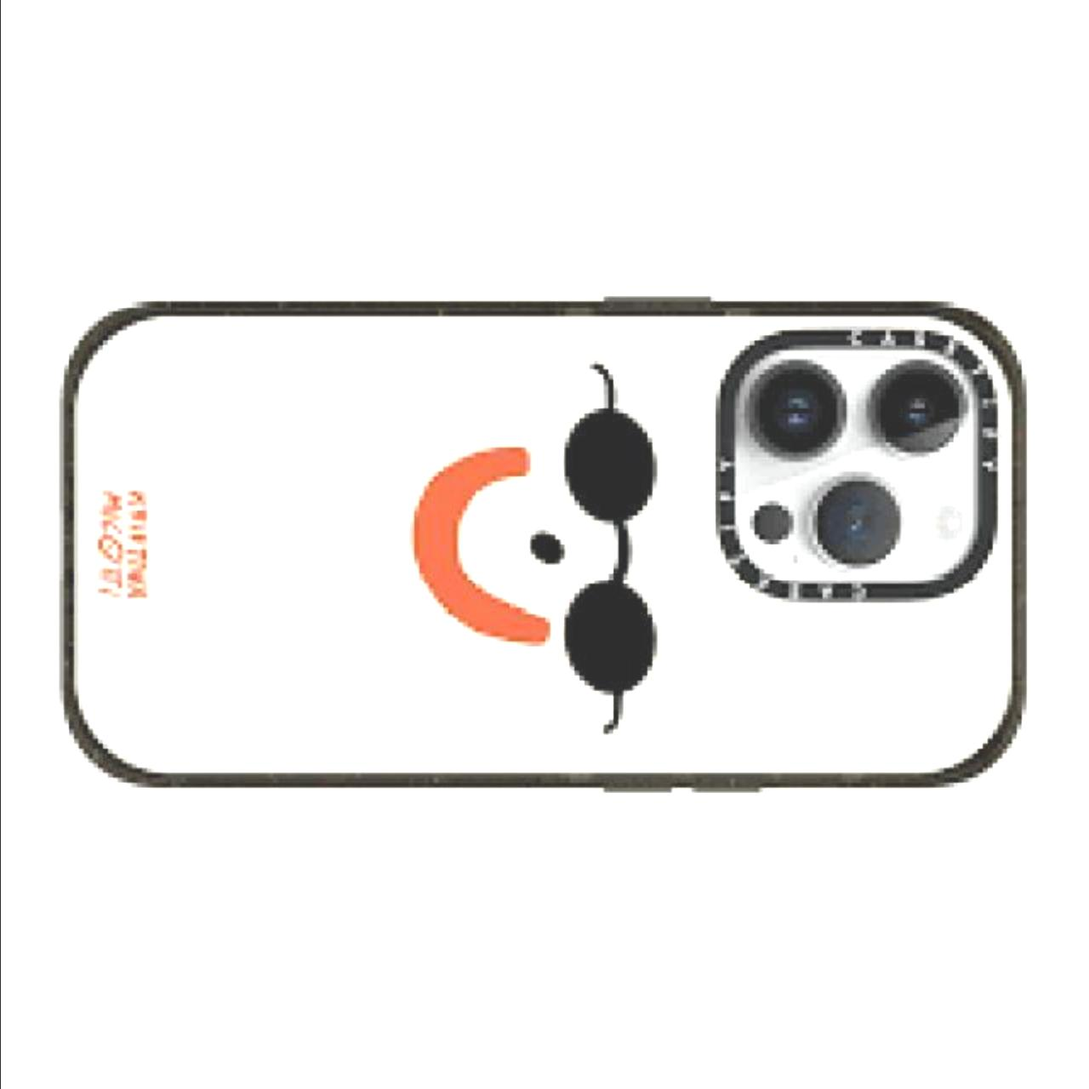phone: (54, 300, 1034, 792)
